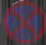No Stopping: (2, 2, 44, 41)
